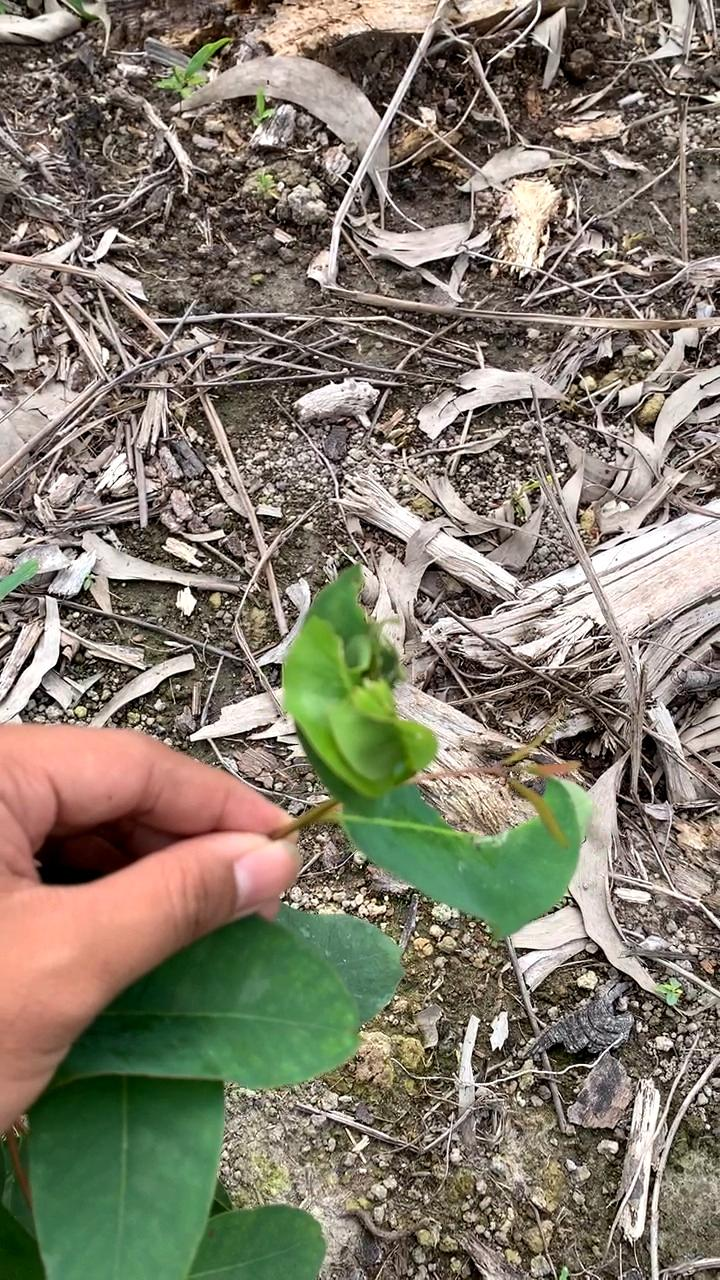Leaf Roller - Leaf: (288, 626, 435, 801)
